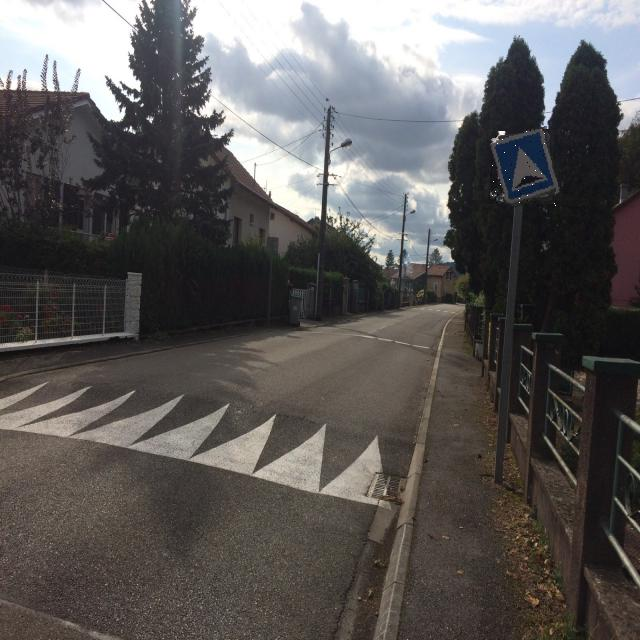hump: (489, 129, 558, 207)
